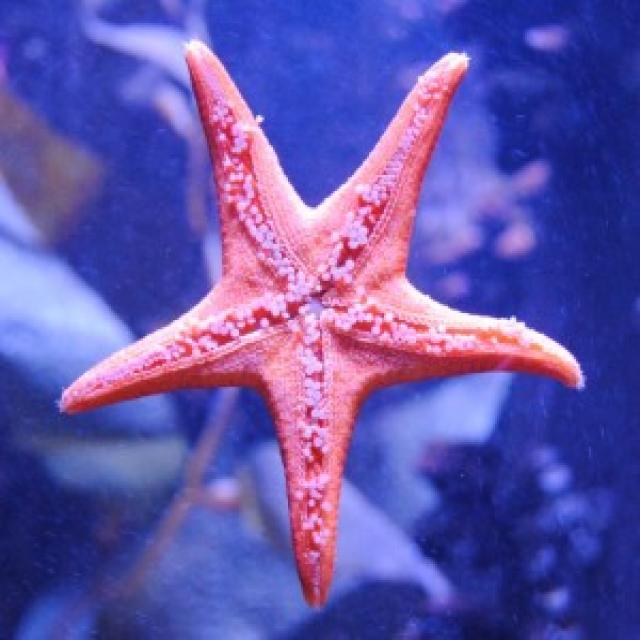Starfish: (52, 33, 591, 612)
